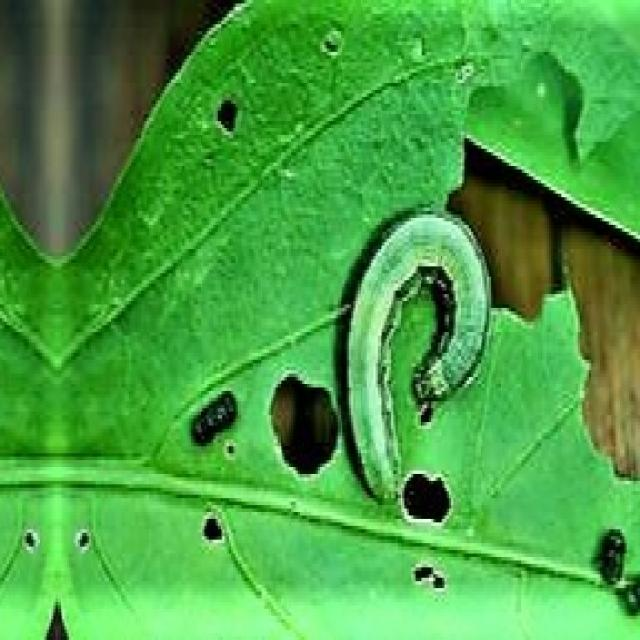Armyworm: (308, 201, 509, 512), (180, 342, 247, 468)
Armyworm_damage: (273, 342, 342, 491), (404, 457, 454, 535), (202, 88, 253, 150)
